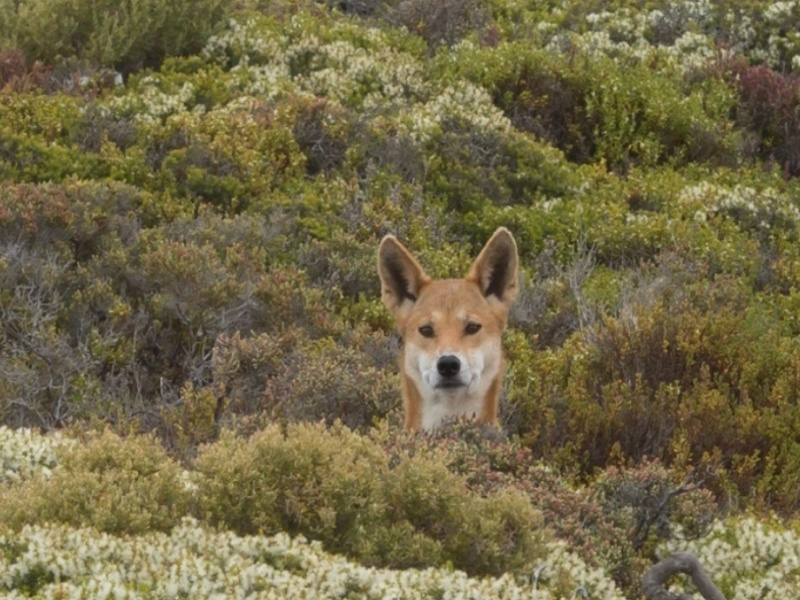dog: (368, 225, 520, 458)
